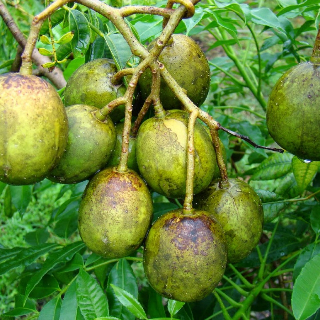coc: (145, 209, 226, 303), (79, 166, 152, 257)
